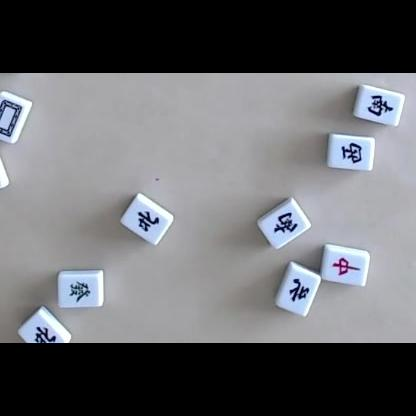2z: (273, 211, 298, 235), (368, 94, 394, 117)
3z: (341, 142, 363, 164)
4z: (136, 210, 160, 233), (289, 278, 310, 303), (33, 325, 56, 343)
5z: (0, 99, 22, 137)
6z: (69, 280, 91, 304)
7z: (332, 257, 360, 276)
